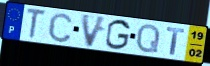C: (47, 12, 74, 44)
G: (104, 18, 132, 51)
Q: (134, 23, 161, 54)
T: (25, 7, 48, 40), (165, 27, 186, 57)
V: (80, 13, 109, 49)
